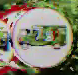Heavy Vehicles: (4, 6, 72, 69)
